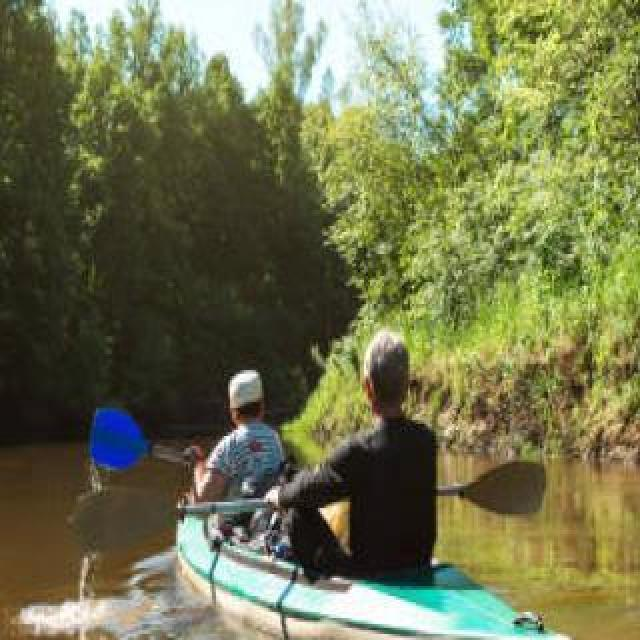kayak: (176, 502, 573, 640)
